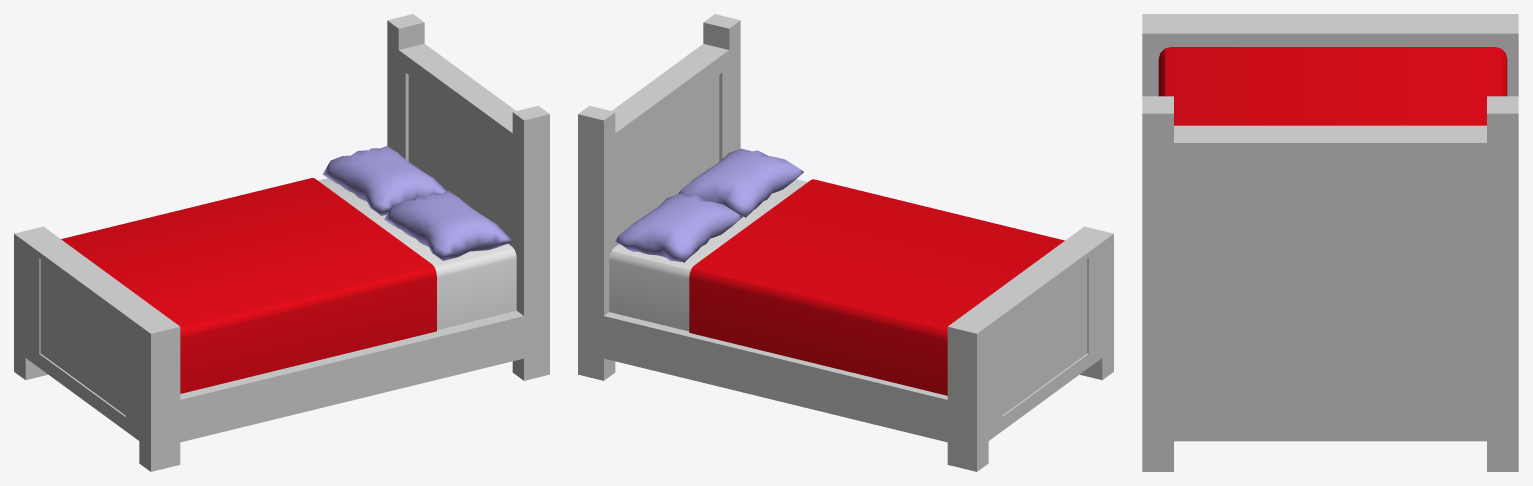
Rendered from Bed.fbx.
3 renders of one model, left to right at view 1: azimuth 30°, elevation 25°; view 2: azimuth 150°, elevation 25°; view 3: azimuth 270°, elevation 25°, orthographic. The views are drawn at different scales.
Parts seen in each view (by area): view 1: Bed_Base, Mattress, Pillow.001, Pillow; view 2: Bed_Base, Mattress, Pillow, Pillow.001; view 3: Bed_Base, Mattress.
Boxes of the visible parts, left/top/right/bottom form: Bed_Base: left=14, top=14, right=549, bottom=471; Mattress: left=61, top=178, right=516, bottom=393; Pillow.001: left=384, top=191, right=513, bottom=260; Pillow: left=322, top=146, right=446, bottom=215; Bed_Base: left=578, top=14, right=1113, bottom=471; Mattress: left=609, top=179, right=1064, bottom=395; Pillow: left=614, top=194, right=742, bottom=262; Pillow.001: left=678, top=148, right=803, bottom=217; Bed_Base: left=1142, top=14, right=1518, bottom=471; Mattress: left=1158, top=47, right=1507, bottom=125.
Size of the model in its own units: 268 by 167 by 159.
